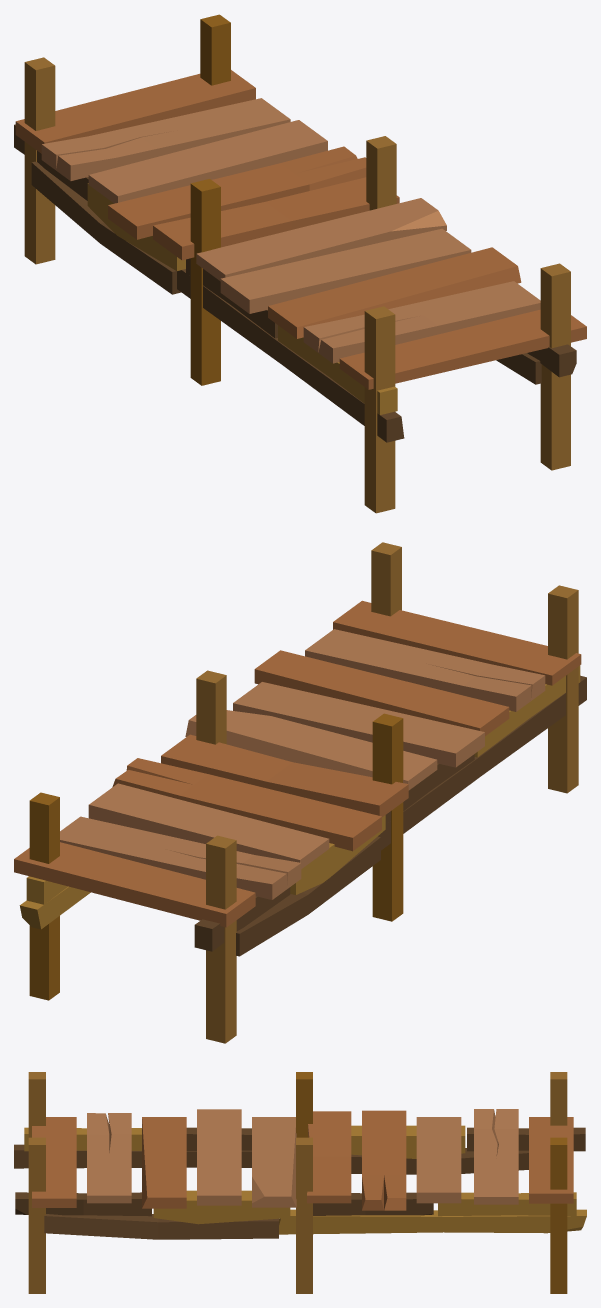
The model's file is Bridge_1.fbx.
3 views of the same model, one above another, from view 1: azimuth 30°, elevation 25°; view 2: azimuth 150°, elevation 25°; view 3: azimuth 270°, elevation 25° (orthographic). The views are drawn at different scales.
Visible parts, largest first — view 1: M_Bridge 1; view 2: M_Bridge 1; view 3: M_Bridge 1.
Boxes of the visible parts, left/top/right/bottom form: M_Bridge 1: left=14, top=14, right=586, bottom=513; M_Bridge 1: left=14, top=542, right=586, bottom=1043; M_Bridge 1: left=14, top=1072, right=586, bottom=1293.
Bounding box in the file's own units: 1.33 × 1.03 × 3.58.
1 material, 1 textured.
